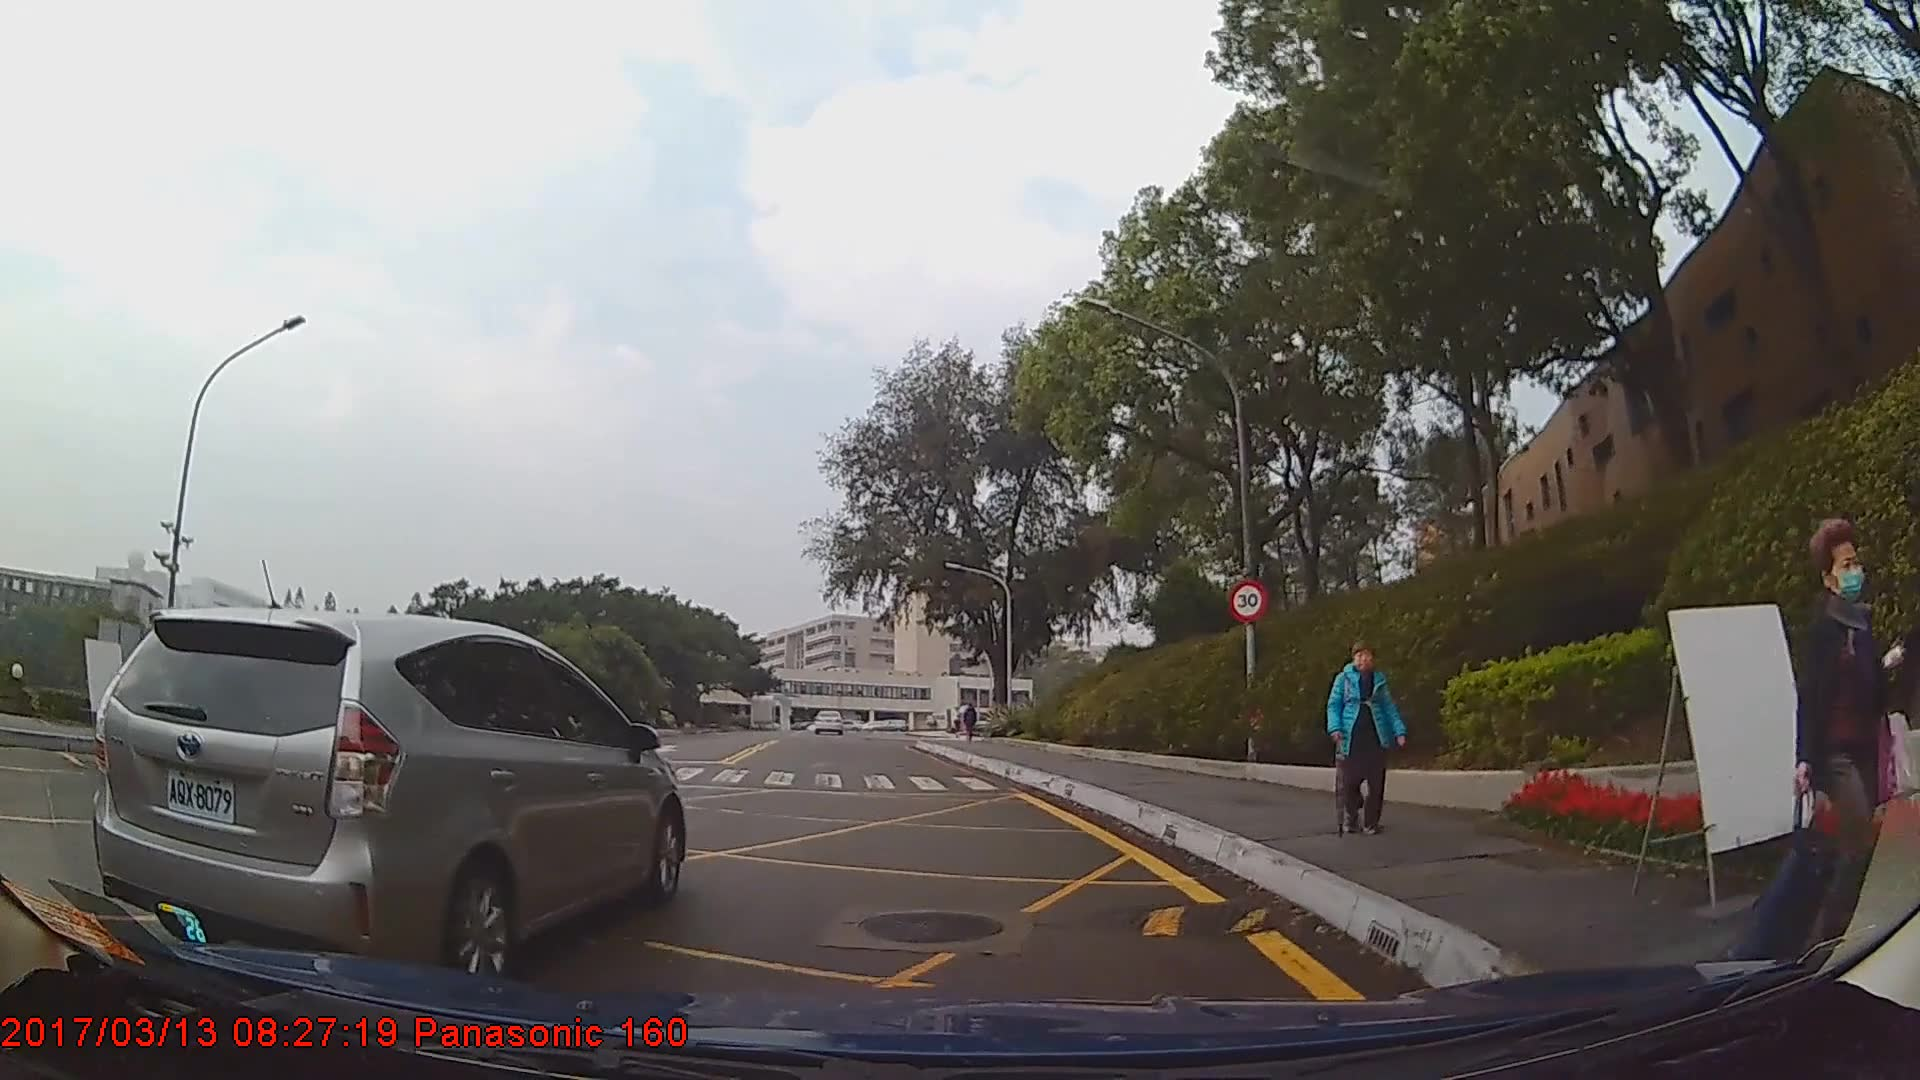pedestrian: (1734, 518, 1920, 983), (1314, 626, 1421, 851), (960, 702, 980, 742)
vehicle: (88, 607, 685, 983), (810, 704, 844, 731)
